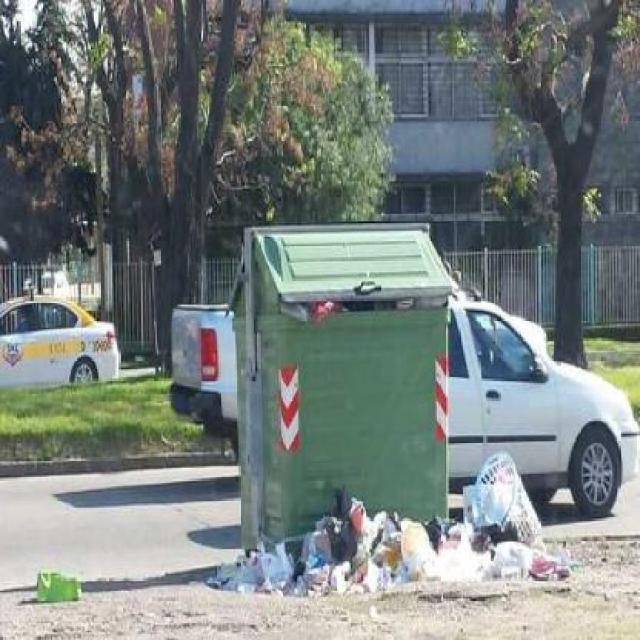garbage: (231, 460, 586, 600), (17, 557, 94, 618), (265, 297, 452, 318)
